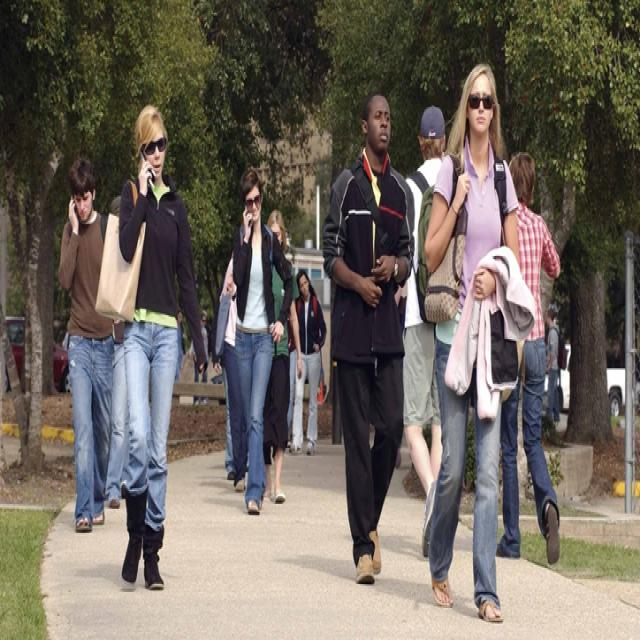body: (90, 98, 210, 596), (422, 57, 524, 628), (318, 88, 416, 592), (494, 147, 563, 568), (56, 152, 118, 534), (230, 160, 294, 523), (402, 102, 448, 560), (261, 208, 304, 507), (214, 216, 252, 496), (102, 192, 131, 512), (287, 264, 328, 459), (544, 307, 568, 429), (188, 308, 210, 409), (284, 309, 298, 451), (285, 315, 299, 451), (223, 354, 237, 480), (173, 309, 183, 400), (242, 446, 250, 472)
